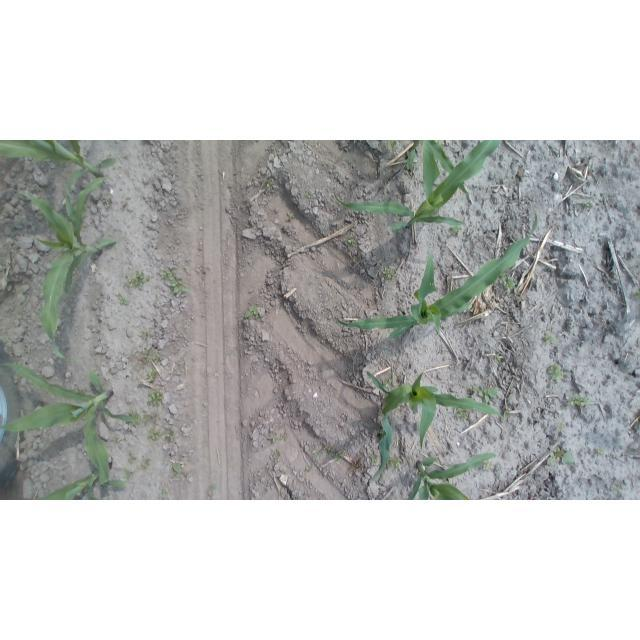Maize: (334, 196, 542, 340), (15, 171, 124, 360), (1, 359, 144, 485), (335, 140, 510, 233), (364, 370, 502, 486), (1, 140, 124, 224), (407, 449, 501, 499), (33, 460, 132, 501), (408, 140, 473, 202)
Weeds: (159, 267, 189, 296), (125, 269, 152, 292), (546, 446, 576, 466), (316, 443, 345, 461), (470, 386, 500, 402), (546, 363, 564, 385), (485, 461, 504, 479), (500, 272, 517, 292), (266, 431, 291, 444), (569, 394, 591, 408), (147, 390, 165, 406), (244, 306, 263, 321), (170, 462, 184, 480), (456, 408, 473, 421), (143, 411, 158, 425), (543, 331, 558, 345), (383, 267, 400, 279), (383, 373, 395, 390), (142, 346, 153, 364), (149, 428, 162, 443), (145, 368, 158, 383), (139, 459, 155, 470), (552, 422, 565, 435), (117, 293, 129, 307), (122, 468, 134, 481), (386, 460, 402, 469), (165, 428, 176, 441), (138, 331, 151, 342), (449, 224, 462, 235), (127, 451, 137, 465), (207, 483, 219, 494), (369, 454, 380, 466), (159, 487, 169, 500), (344, 235, 357, 245), (616, 482, 625, 496), (102, 198, 113, 209), (263, 177, 274, 188), (580, 198, 592, 208), (501, 409, 513, 419), (286, 213, 299, 222), (387, 141, 397, 152), (596, 446, 607, 456), (110, 437, 122, 446), (306, 189, 315, 200), (304, 463, 313, 473), (153, 354, 161, 365), (632, 289, 640, 300), (128, 411, 140, 418), (73, 388, 89, 393), (272, 450, 282, 458), (633, 267, 640, 277), (495, 355, 502, 364), (152, 297, 160, 303), (348, 439, 357, 444)
